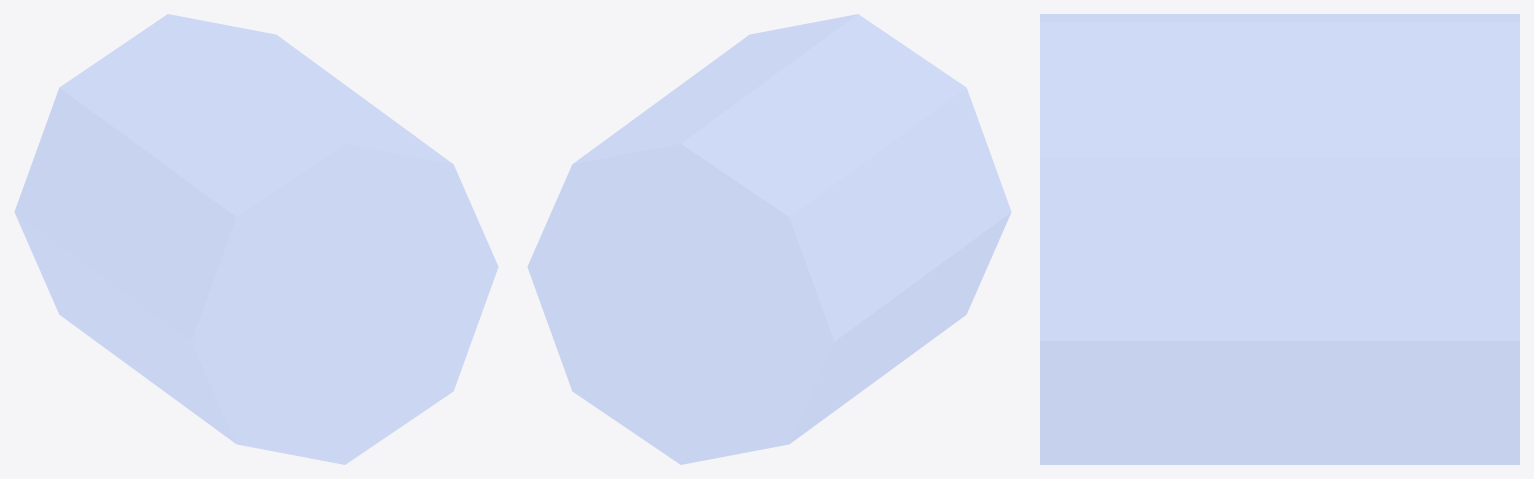
Rendered from cnrLightningRod.dae.
3 views of the same model, side by side, from view 1: azimuth 30°, elevation 25°; view 2: azimuth 150°, elevation 25°; view 3: azimuth 270°, elevation 25° (orthographic). The views are drawn at different scales.
Parts seen in each view (by area): view 1: cnrLightningRod; view 2: cnrLightningRod; view 3: cnrLightningRod.
Boxes of the visible parts, <box> form: cnrLightningRod: <box>14,14,498,464</box>; cnrLightningRod: <box>527,14,1011,464</box>; cnrLightningRod: <box>1040,14,1519,464</box>.
Bounding box in the file's own units: 1 × 1 × 1.
